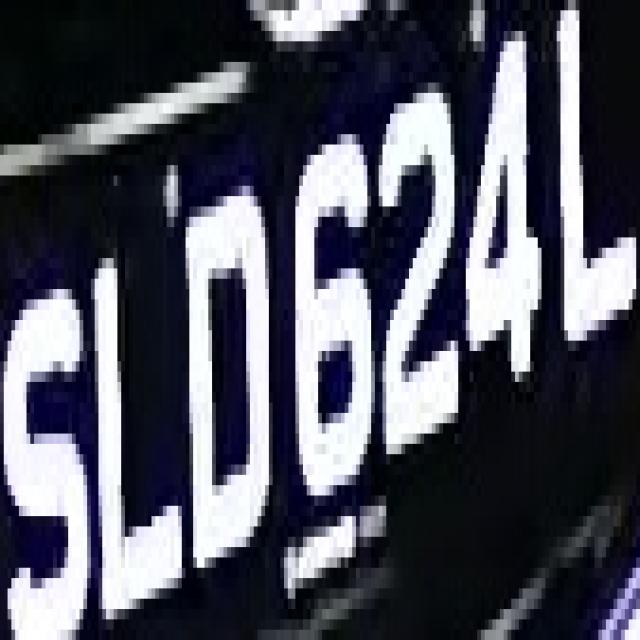2: (371, 52, 466, 516)
4: (450, 11, 538, 423)
6: (288, 93, 379, 537)
D: (170, 165, 272, 568)
L: (72, 247, 193, 640), (3, 0, 4, 6)
S: (0, 258, 95, 640)
